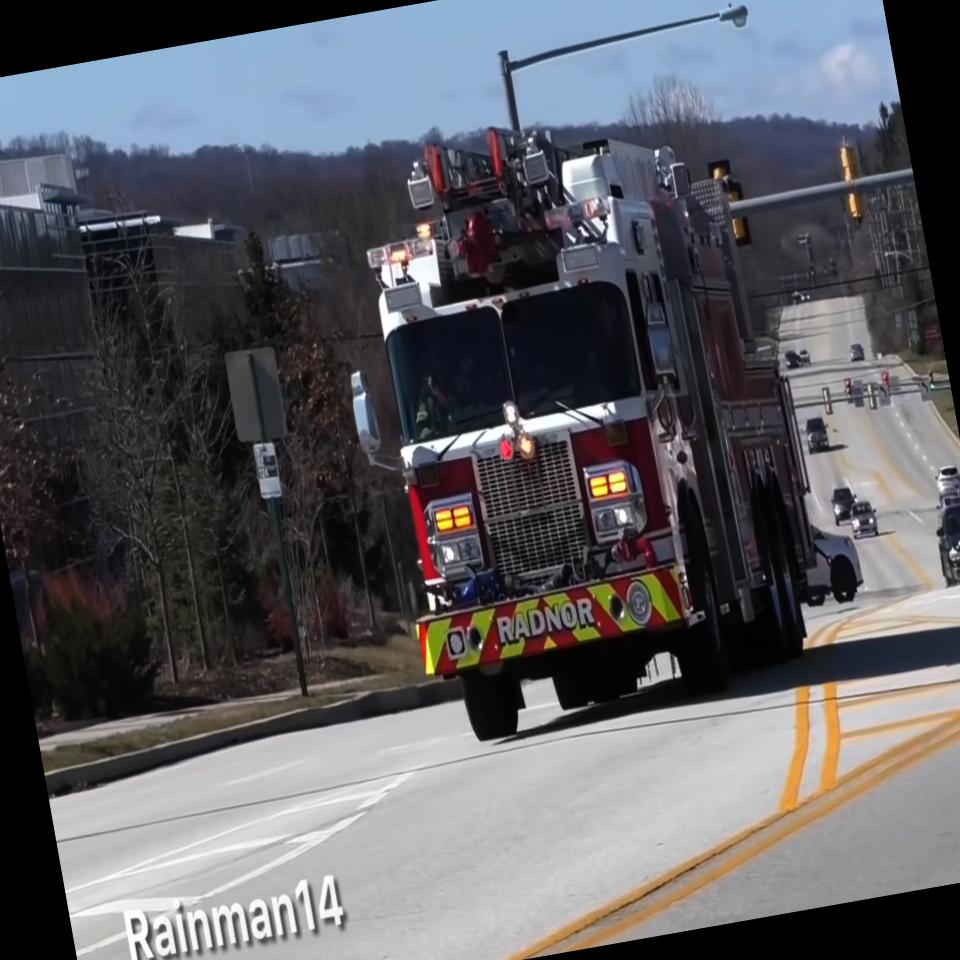viatura: (311, 82, 840, 755)
